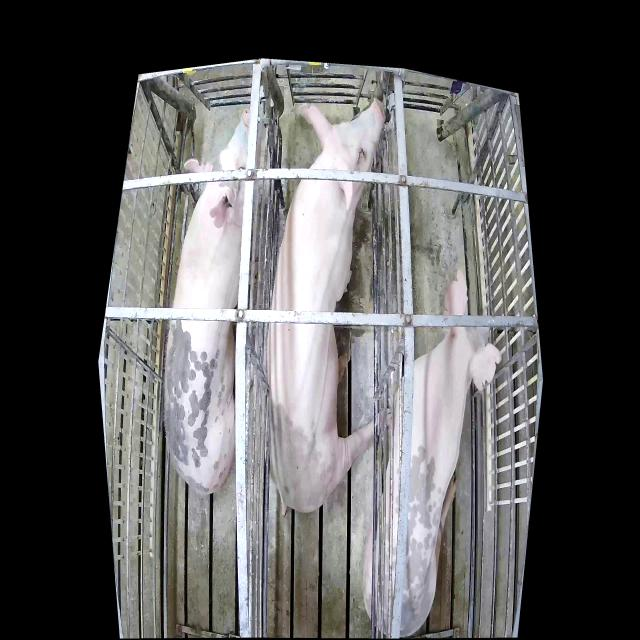pig: (364, 267, 499, 637), (266, 97, 384, 513), (165, 112, 261, 493)
